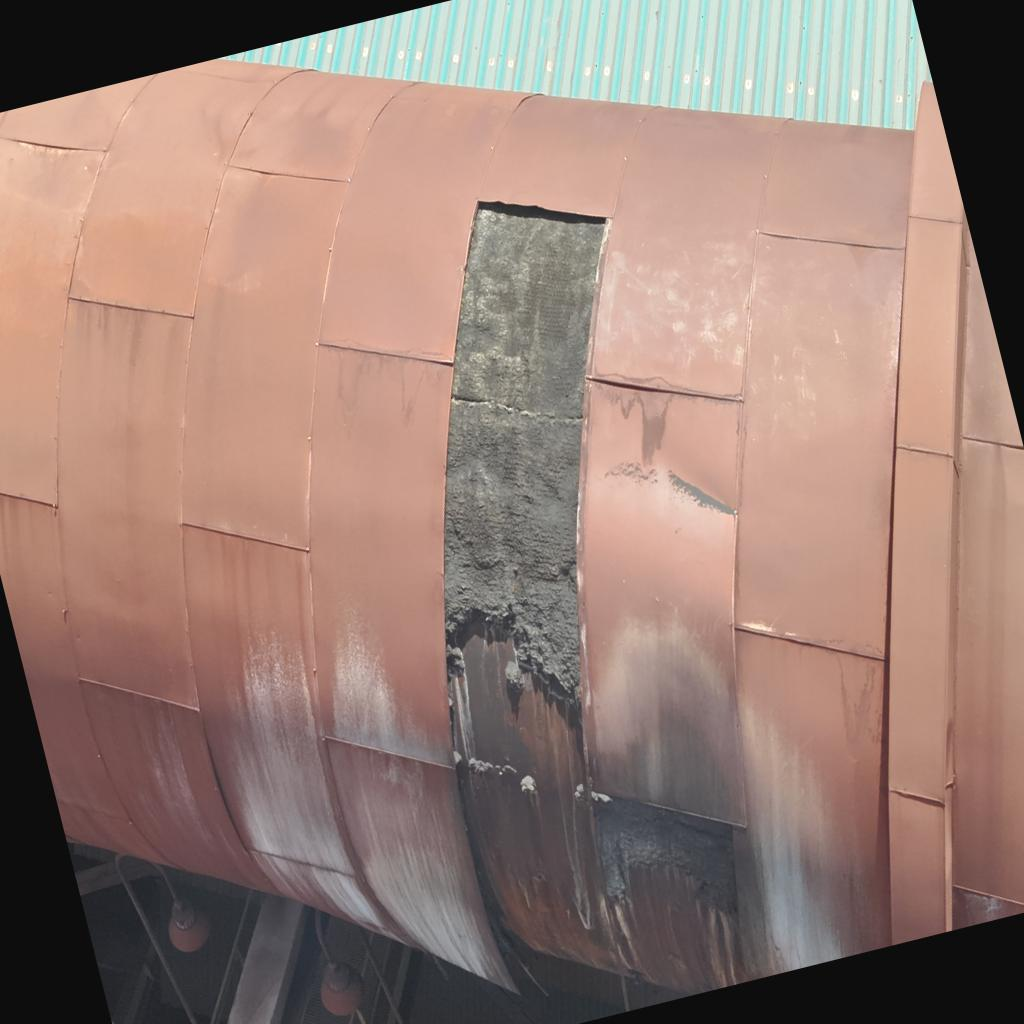Failures: (276, 155, 822, 1024)
